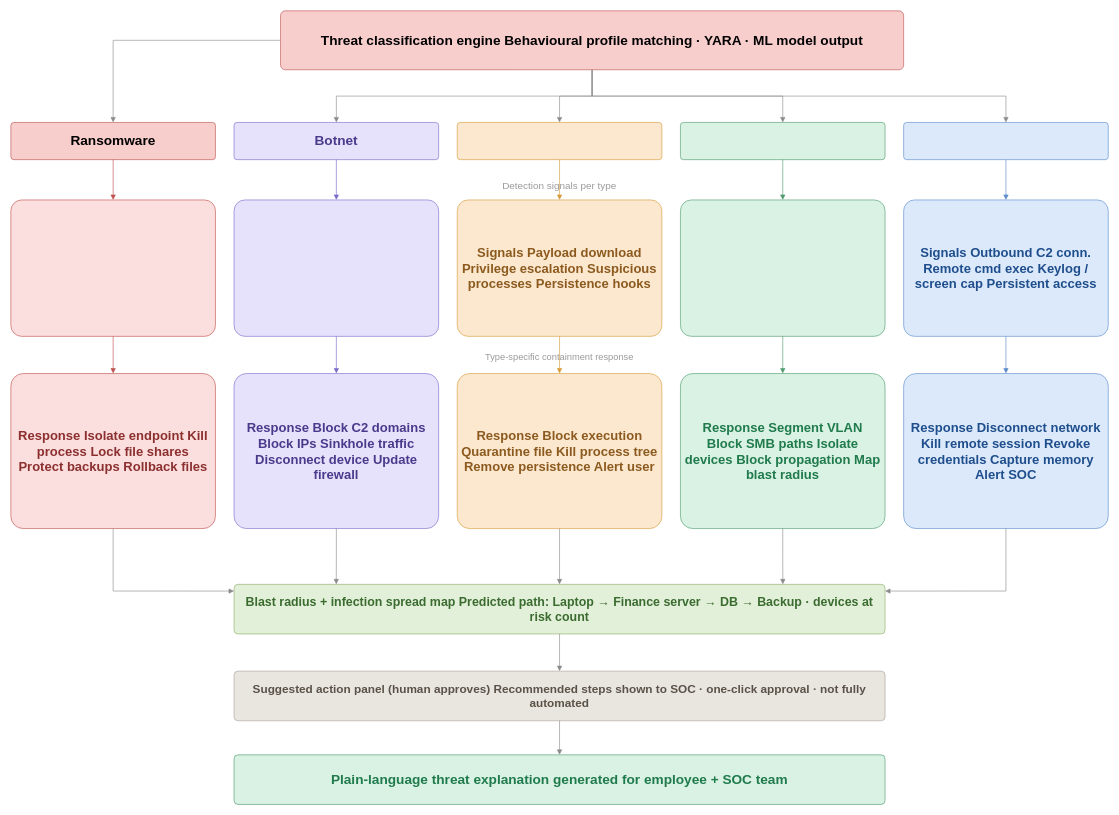
The diagram is 1119 pixels wide and 815 high, and some of its shapes have lost their labels. Each missing label, with the centre of its shape:
RAT: (x=1005, y=141)
Signals Mass file changes Encryption behaviour Shadow copy delete Backup access: (x=112, y=267)
Signals Periodic beaconing C2 DNS requests Outbound patterns DDoS activity: (x=336, y=267)
Signals SMB/port scanning Lateral movement Rapid propagation Network enumeration: (x=782, y=267)
Trojan: (x=559, y=141)
Worm: (x=782, y=141)
